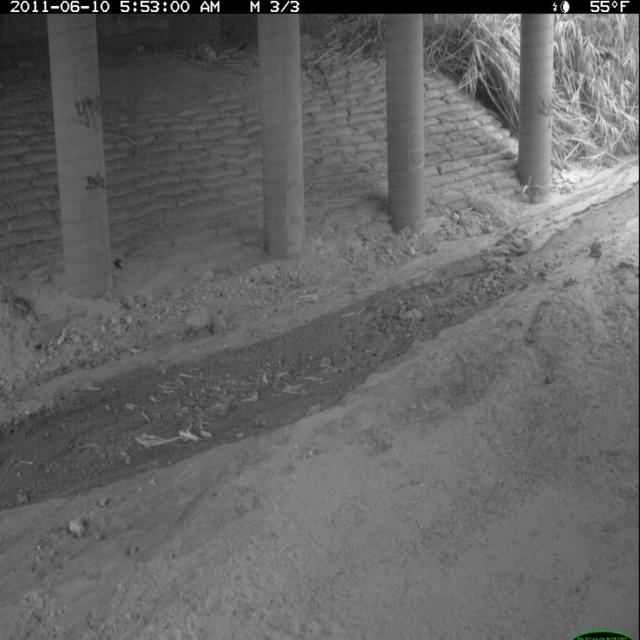opossum: (154, 300, 235, 346)
